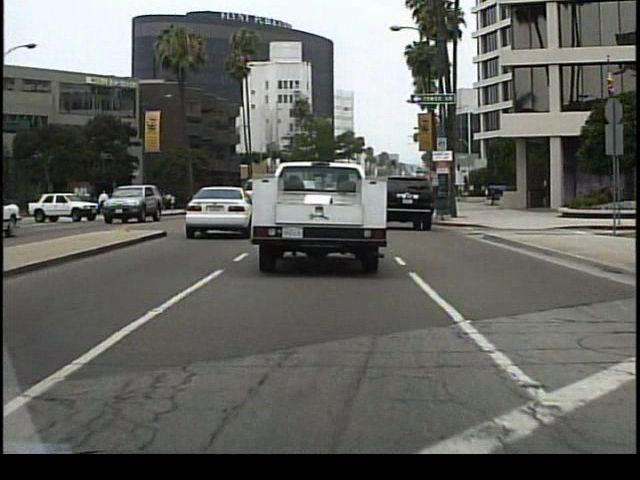person: (129, 182, 145, 213), (86, 188, 100, 219), (101, 185, 109, 220)
